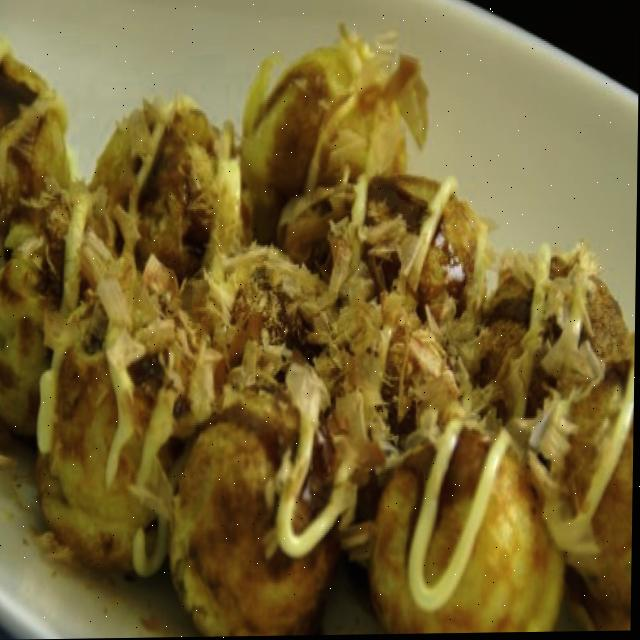炸货点心: (0, 28, 640, 640)
